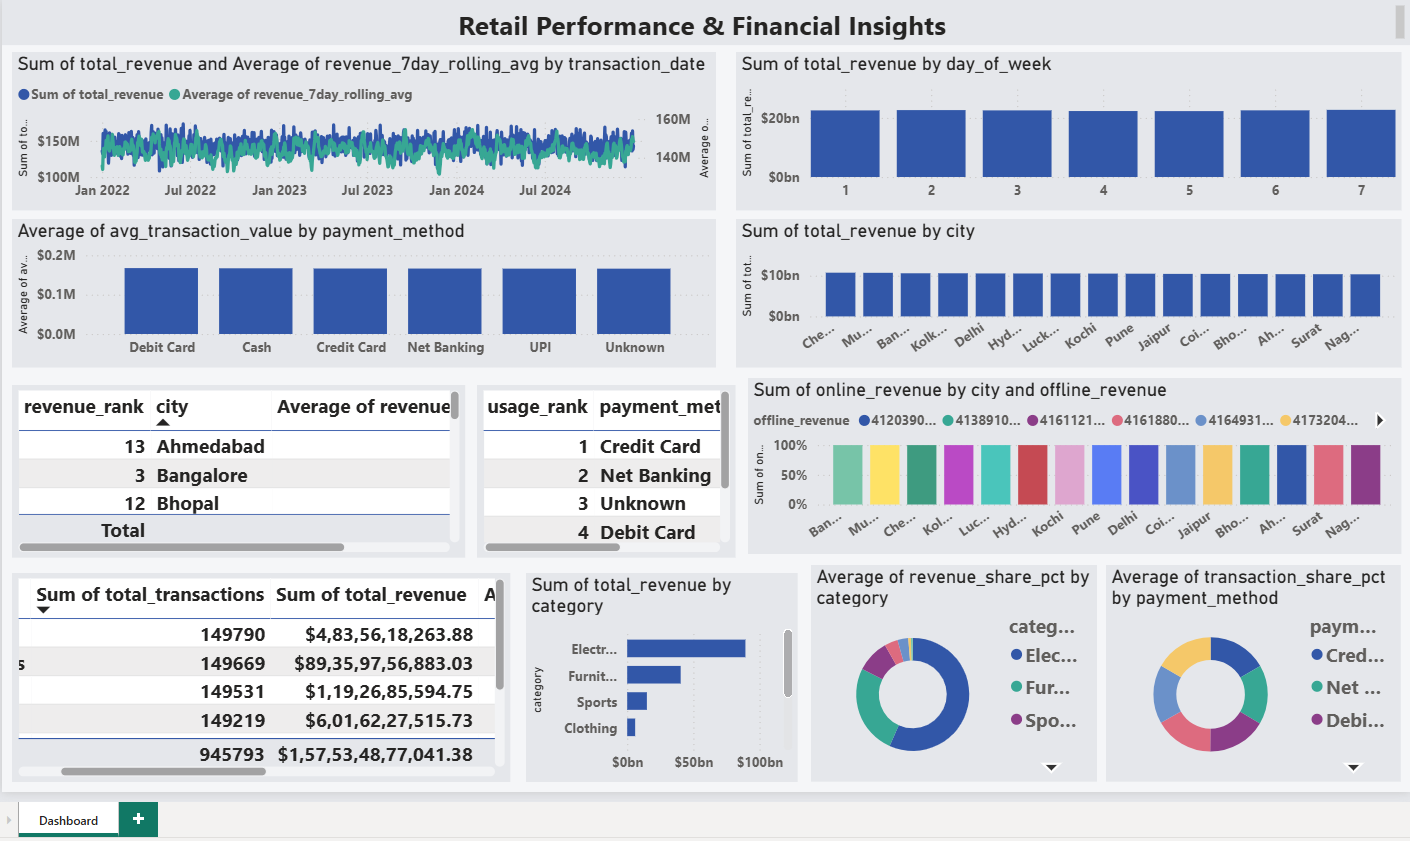

Layout of this report page (visuals, bound fields, positions):
{"tool":"powerbi","page":{"name":"Dashboard","canvas":[1280,720],"ordinal":0},"visuals":[{"type":"lineChart","fields":{"Y":["Sum(daily_revenue.total_revenue)"],"Y2":["Avg(daily_revenue.revenue_7day_rolling_avg)"],"Category":["daily_revenue.transaction_date"]},"box":[9.1,47.3,640,143.6],"z":0},{"type":"clusteredColumnChart","fields":{"Category":["daily_revenue.day_of_week"],"Y":["Sum(daily_revenue.total_revenue)"]},"box":[667.3,47.3,604.5,143.6],"z":1000},{"type":"clusteredBarChart","fields":{"Category":["category_performance.category"],"Y":["Sum(category_performance.total_revenue)"]},"box":[476.4,520.9,247.3,190],"z":2000},{"type":"donutChart","fields":{"Category":["category_performance.category"],"Y":["Avg(category_performance.revenue_share_pct)"]},"box":[735.5,513.6,260,197.3],"z":3000},{"type":"tableEx","fields":{"Values":["category_performance.category","Sum(category_performance.total_transactions)","Sum(category_performance.total_revenue)","Avg(category_performance.avg_transaction_value)","Max(category_performance.unique_products)"]},"box":[9.1,520.9,452.7,190],"z":4000},{"type":"clusteredColumnChart","fields":{"Category":["city_revenue.city"],"Y":["Sum(city_revenue.total_revenue)"]},"box":[667.3,199.1,604.5,134.5],"z":5000},{"type":"hundredPercentStackedColumnChart","fields":{"Category":["city_revenue.city"],"Y":["Sum(city_revenue.online_revenue)"],"Series":["city_revenue.offline_revenue"]},"box":[678.2,343.6,593.6,160],"z":6000},{"type":"tableEx","fields":{"Values":["city_revenue.revenue_rank","city_revenue.city","Avg(city_revenue.revenue_per_customer)"]},"box":[9.1,350,411.8,157.3],"z":7000},{"type":"donutChart","fields":{"Category":["payment_insights.payment_method"],"Y":["Avg(payment_insights.transaction_share_pct)"]},"box":[1003.6,513.6,268.2,197.3],"z":8000},{"type":"clusteredColumnChart","fields":{"Category":["payment_insights.payment_method"],"Y":["Avg(payment_insights.avg_transaction_value)"]},"box":[9.1,199.1,640,134.5],"z":9000},{"type":"tableEx","fields":{"Values":["payment_insights.usage_rank","payment_insights.payment_method","payment_insights.top_category"]},"box":[431.8,350,235.5,157.3],"z":10000},{"type":"textbox","box":[0,0,1280,40.9],"z":11000}]}

Visuals, with their boxes on the page's 1280x720 design canvas (x1, y1, x2, y2). These are canvas units, not pixel positions in the 1410x841 screenshot, which may show the page scaled, cropped or inside an application window:
lineChart - Sum(daily_revenue.total_revenue) x Avg(daily_revenue.revenue_7day_rolling_avg): detection(9, 47, 649, 191)
clusteredColumnChart - daily_revenue.day_of_week x Sum(daily_revenue.total_revenue): detection(667, 47, 1272, 191)
clusteredBarChart - category_performance.category x Sum(category_performance.total_revenue): detection(476, 521, 724, 711)
donutChart - category_performance.category x Avg(category_performance.revenue_share_pct): detection(736, 514, 996, 711)
tableEx - category_performance.category x Sum(category_performance.total_transactions): detection(9, 521, 462, 711)
clusteredColumnChart - city_revenue.city x Sum(city_revenue.total_revenue): detection(667, 199, 1272, 334)
hundredPercentStackedColumnChart - city_revenue.city x Sum(city_revenue.online_revenue): detection(678, 344, 1272, 504)
tableEx - city_revenue.revenue_rank x city_revenue.city: detection(9, 350, 421, 507)
donutChart - payment_insights.payment_method x Avg(payment_insights.transaction_share_pct): detection(1004, 514, 1272, 711)
clusteredColumnChart - payment_insights.payment_method x Avg(payment_insights.avg_transaction_value): detection(9, 199, 649, 334)
tableEx - payment_insights.usage_rank x payment_insights.payment_method: detection(432, 350, 667, 507)
textbox: detection(0, 0, 1280, 41)
